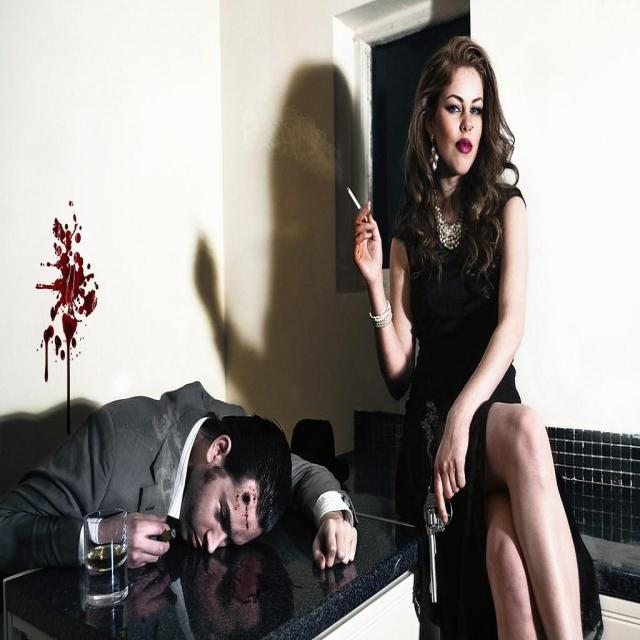smoking: (343, 41, 520, 287)
